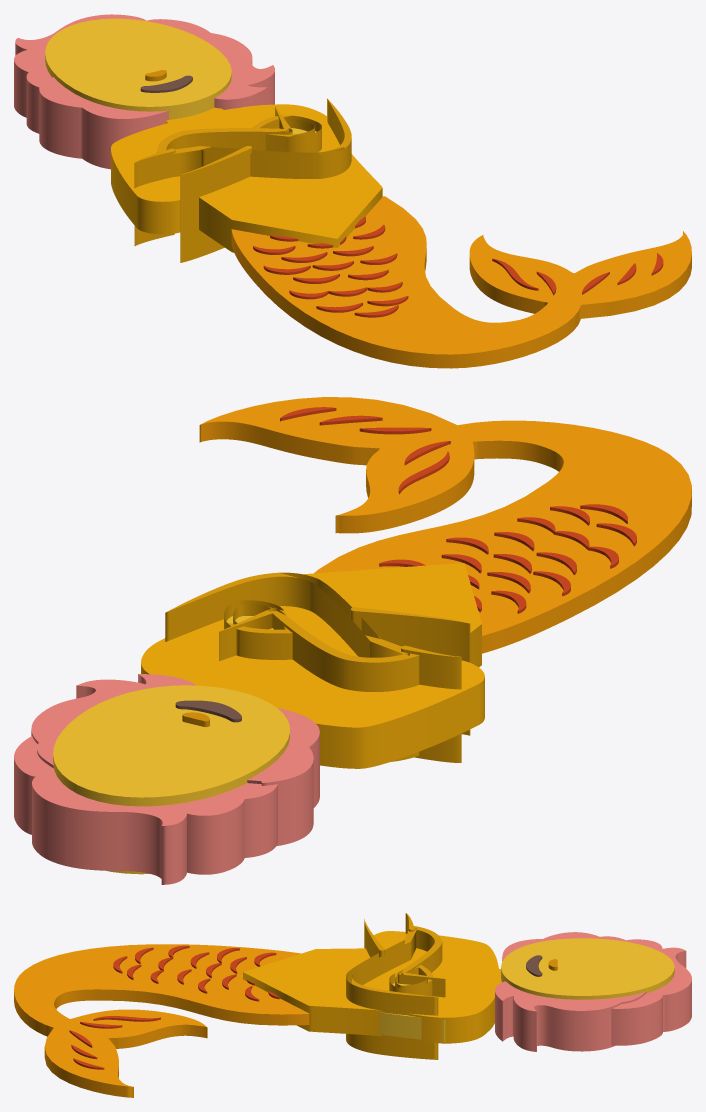
File: emoji_u1f9dc.glb
3 views of the same model, one above another, from view 1: azimuth 30°, elevation 25°; view 2: azimuth 150°, elevation 25°; view 3: azimuth 270°, elevation 25° (orthographic). The views are drawn at different scales.
Parts seen in each view (by area): view 1: emoji_u1f9dc; view 2: emoji_u1f9dc; view 3: emoji_u1f9dc.
Boxes of the visible parts, bbox=[...] form: emoji_u1f9dc: bbox=[14, 14, 691, 368]; emoji_u1f9dc: bbox=[14, 397, 691, 884]; emoji_u1f9dc: bbox=[14, 913, 691, 1097].
Size of the model in its own units: 0.0173 by 0.0038 by 0.0333.
